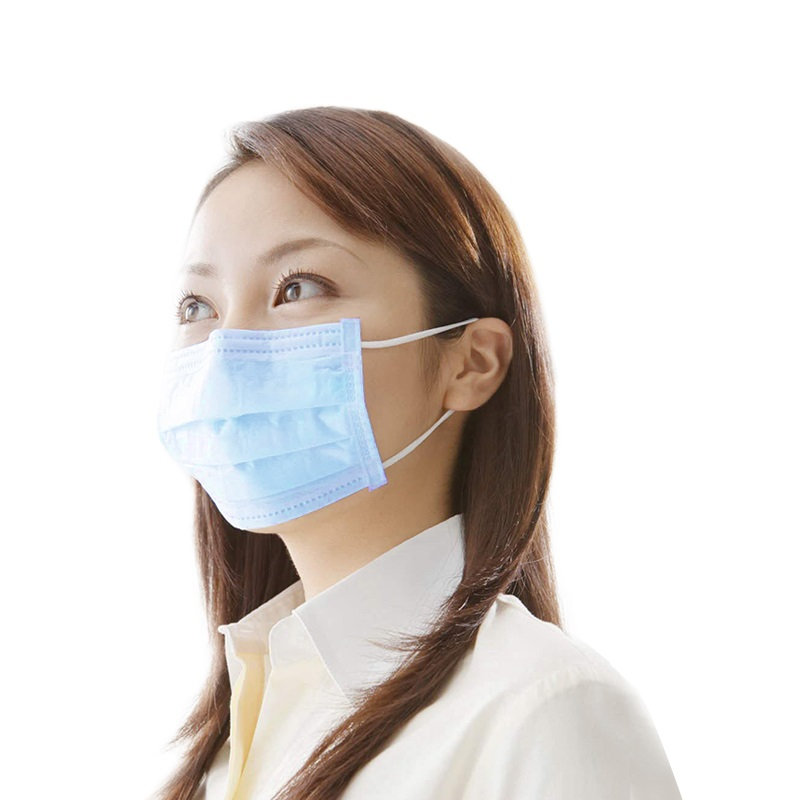face_mask: (167, 177, 396, 536)
